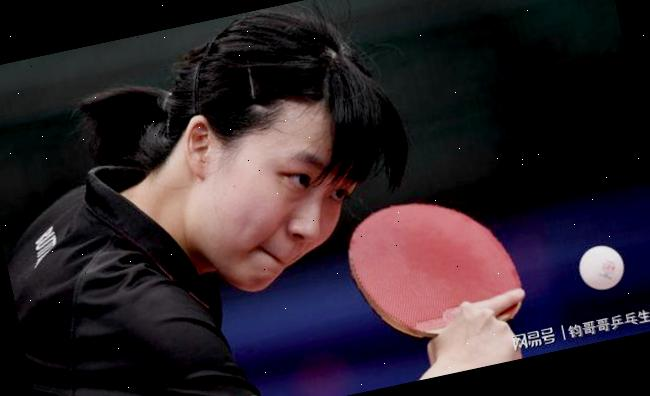ball: (568, 236, 632, 298)
